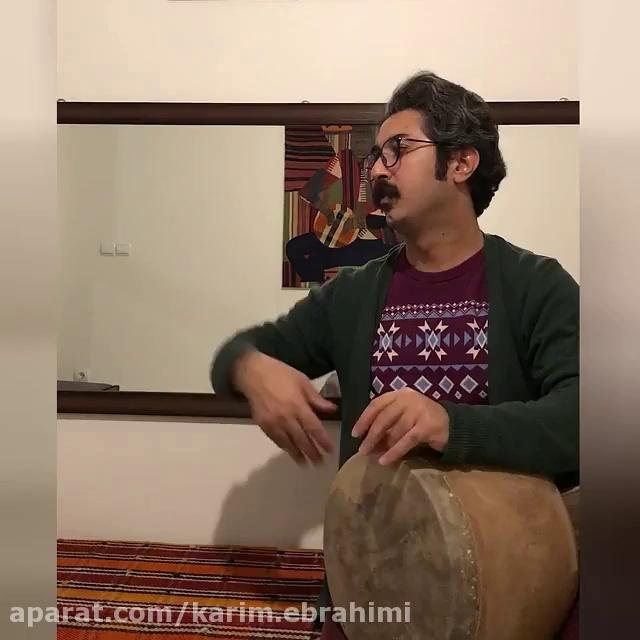Tombak: (322, 452, 586, 638)
